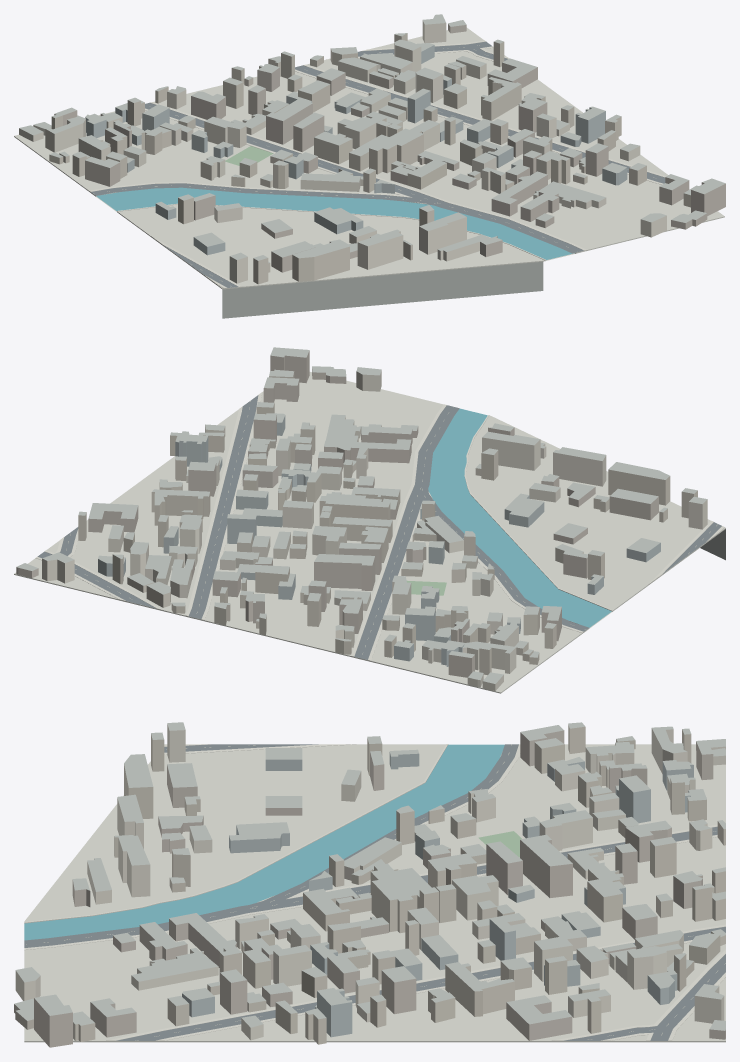
3 renders of one model, top to bottom at view 1: azimuth 30°, elevation 25°; view 2: azimuth 150°, elevation 25°; view 3: azimuth 270°, elevation 25°, orthographic. The views are drawn at different scales.
Visible parts, largest first — view 1: city; view 2: city; view 3: city.
Part boxes in pixels (x1,y1,x2,y2): city: [14, 14, 725, 318]; city: [14, 347, 725, 693]; city: [14, 722, 725, 1047].
Size of the model in its own units: 512 by 57 by 507.
